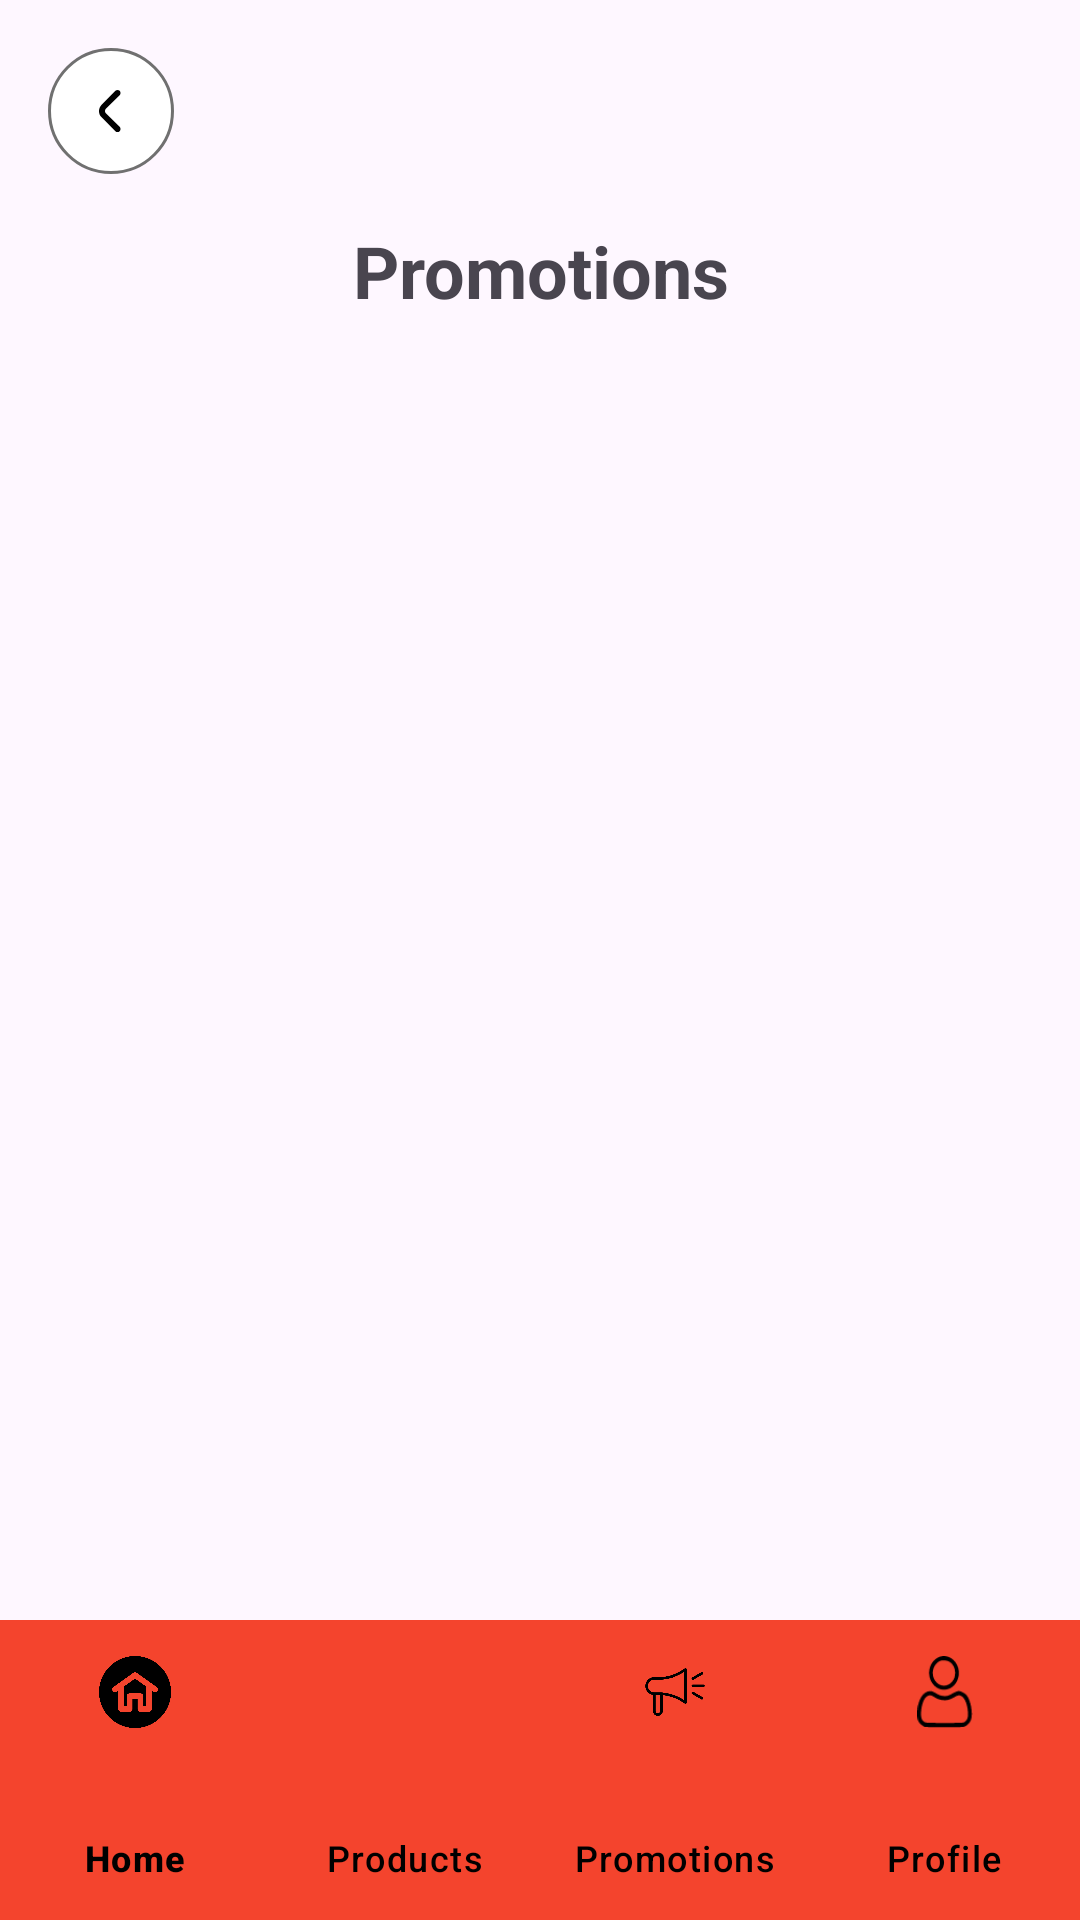

Screen size 1080*1920. Icon name, then its center in pixels as [x,y]:
back: [111,111]
